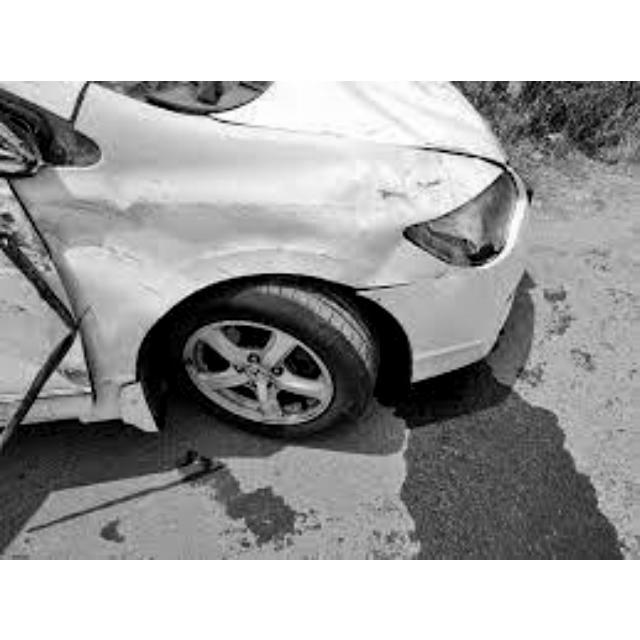bonnet-dent: (265, 81, 499, 152)
fender-dent: (70, 135, 415, 421)
